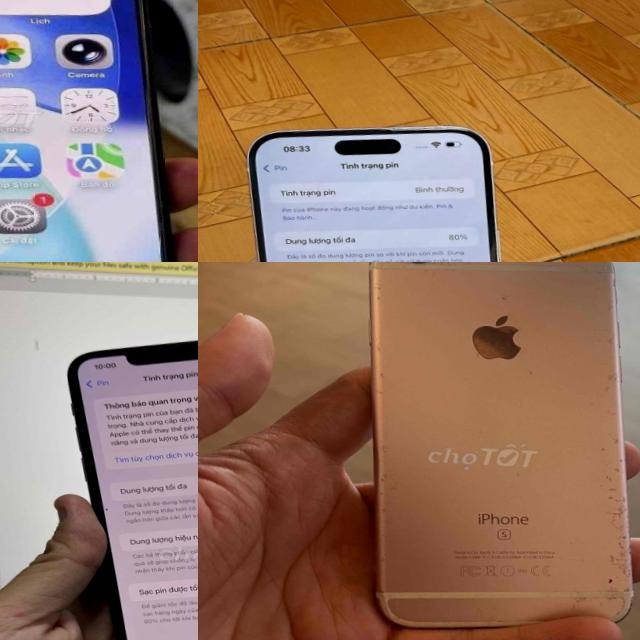gen_11: (48, 320, 198, 640)
gen_15: (0, 0, 198, 262), (213, 112, 540, 262)
gen_6: (370, 262, 632, 628)
